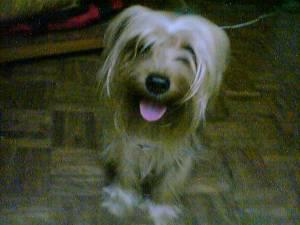dog-yorkshire_terrier: (107, 7, 227, 125)
